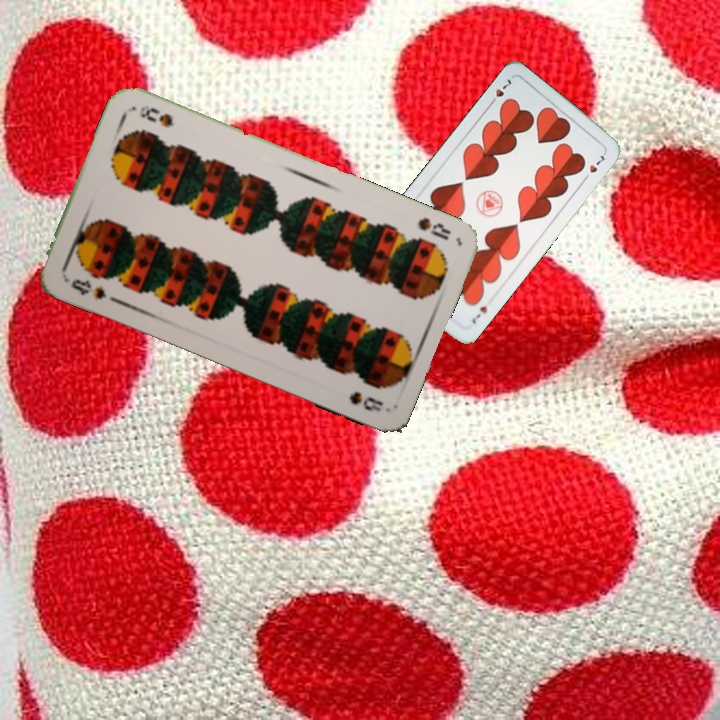H7: (485, 74, 515, 108), (467, 302, 490, 327)
S8: (413, 213, 454, 243), (67, 274, 109, 302)
